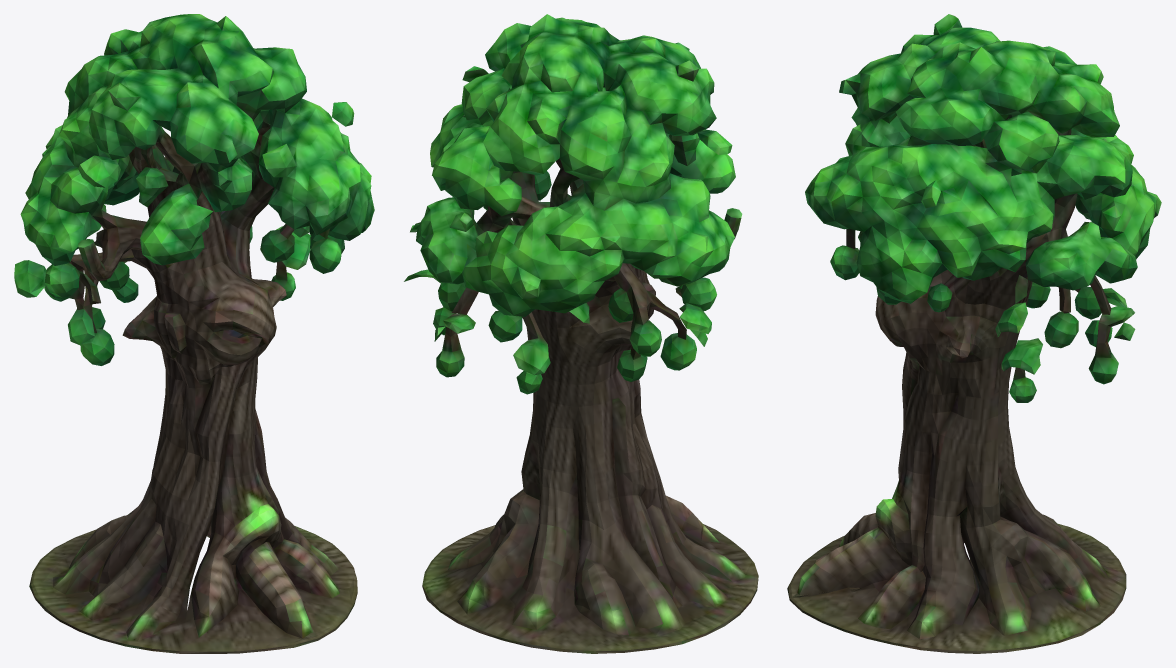
File: oaktree.glb
3 renders of one model, left to right at view 1: azimuth 30°, elevation 25°; view 2: azimuth 150°, elevation 25°; view 3: azimuth 270°, elevation 25°, orthographic. The views are drawn at different scales.
Parts seen in each view (by area): view 1: mesh_node; view 2: mesh_node; view 3: mesh_node.
Boxes of the visible parts, left/top/right/bottom form: mesh_node: left=14, top=14, right=374, bottom=653; mesh_node: left=404, top=14, right=758, bottom=653; mesh_node: left=787, top=14, right=1161, bottom=653.
Size of the model in its own units: 1.08 by 1.91 by 1.16.
Materials: 1 (1 with a texture image).
